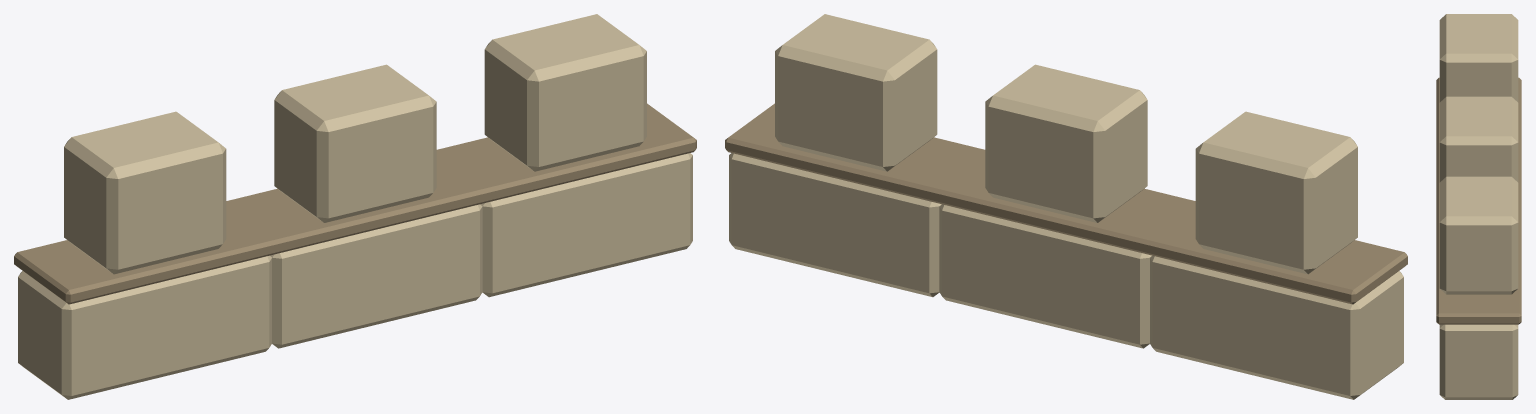
Rendered from crenel.glb.
3 renders of one model, left to right at view 1: azimuth 30°, elevation 25°; view 2: azimuth 150°, elevation 25°; view 3: azimuth 270°, elevation 25°, orthographic. The views are drawn at different scales.
Visible parts, largest first — view 1: crenel; view 2: crenel; view 3: crenel.
Boxes of the visible parts, bbox=[...] form: crenel: bbox=[14, 14, 696, 399]; crenel: bbox=[725, 14, 1407, 399]; crenel: bbox=[1436, 14, 1521, 399].
Size of the model in its own units: 1 by 0.3332 by 0.152.
